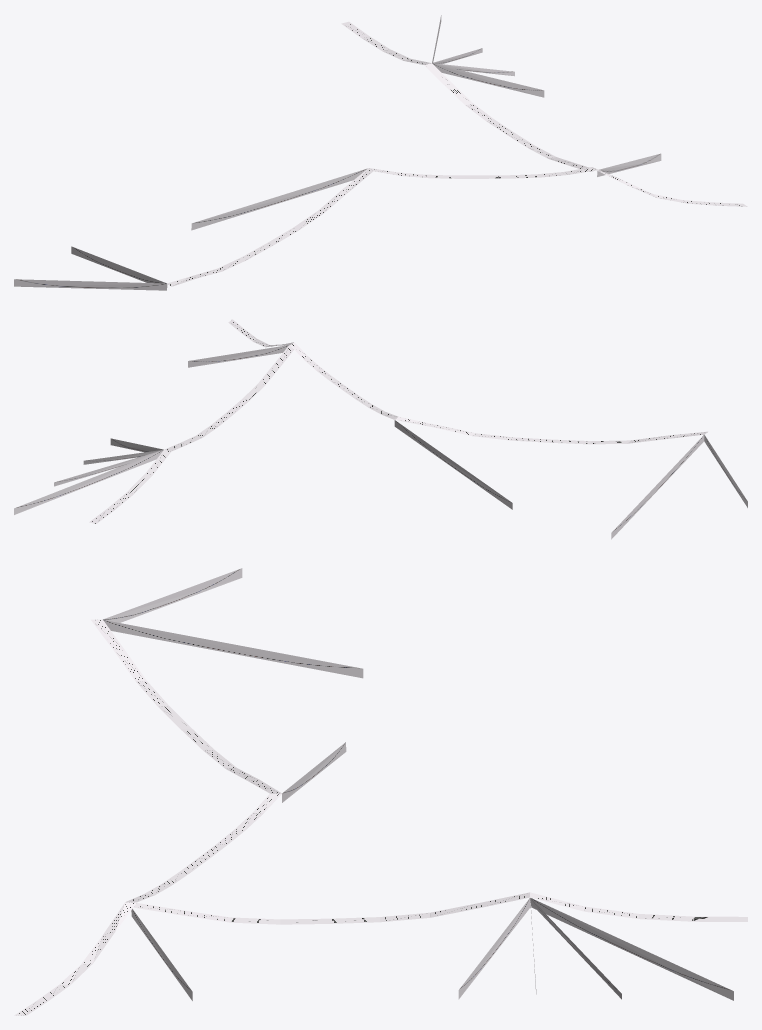
Rendered from wires_02_sfs.obj.
The picture shows the model from 3 angles, top to bottom: view 1: azimuth 30°, elevation 25°; view 2: azimuth 150°, elevation 25°; view 3: azimuth 270°, elevation 25°; orthographic projection. The views are drawn at different scales.
Parts seen in each view (by area): view 1: wires_02_SFS; view 2: wires_02_SFS; view 3: wires_02_SFS.
Boxes of the visible parts, x1,y1,x2,y2 form: wires_02_SFS: (14,15,747,290); wires_02_SFS: (14,319,747,539); wires_02_SFS: (14,568,747,1015).
Bounding box in the file's own units: 137 × 8.68 × 101.
2 materials, 2 textured.
